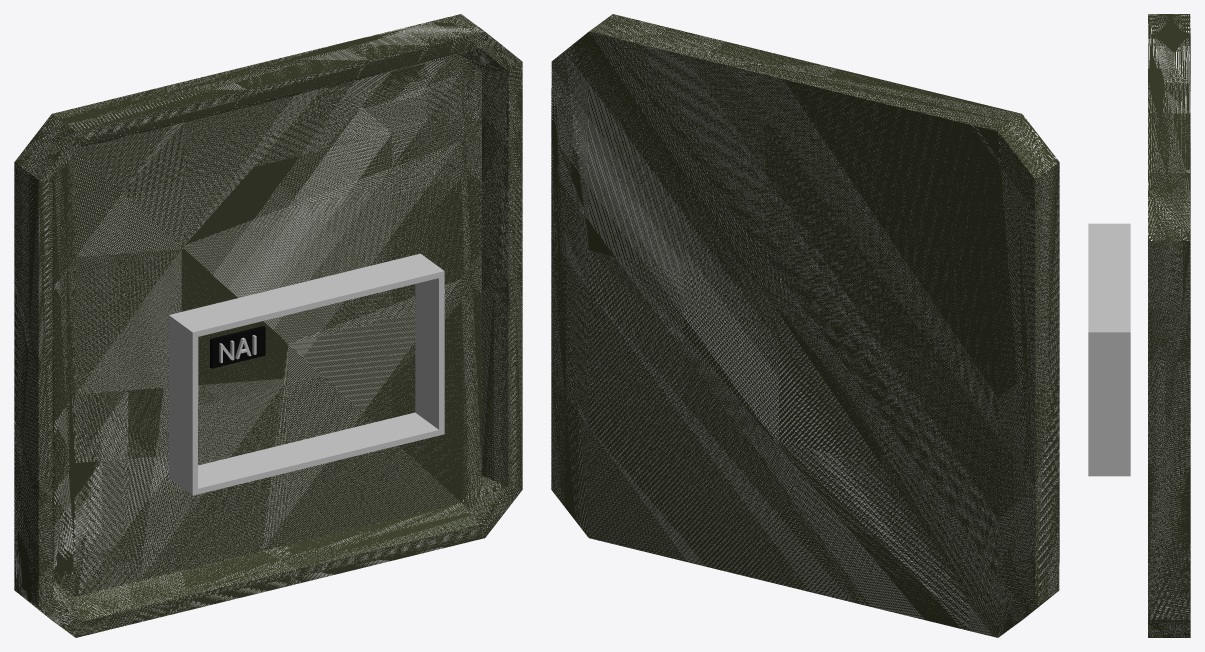
Rendered from CM_-_NAI.obj.
3 views of the same model, side by side, from view 1: azimuth 30°, elevation 25°; view 2: azimuth 150°, elevation 25°; view 3: azimuth 270°, elevation 25° (orthographic). The views are drawn at different scales.
Visible parts, largest first — view 1: Button.001_ID13, Button_ID3, SM_CM_-_NAI_path1763-2.090; view 2: Button_ID3; view 3: Button_ID3, SM_CM_-_NAI_path1763-2.090.
Part boxes in pixels (x1,y1,x2,y2): Button.001_ID13: [52, 48, 508, 621]; Button_ID3: [14, 14, 522, 637]; SM_CM_-_NAI_path1763-2.090: [168, 253, 444, 495]; Button_ID3: [551, 14, 1059, 637]; Button_ID3: [1148, 14, 1190, 637]; SM_CM_-_NAI_path1763-2.090: [1088, 223, 1130, 476].
Bounding box in the file's own units: 1 × 1 × 0.207.
